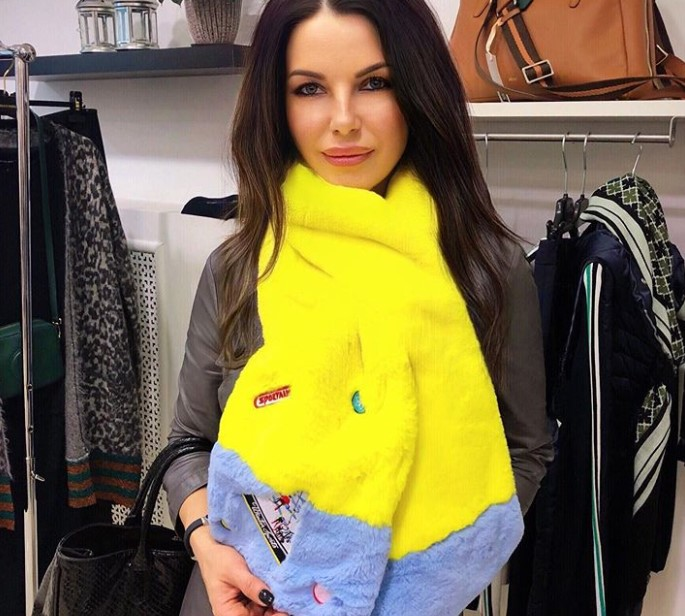face_no_mask: (273, 3, 420, 194)
